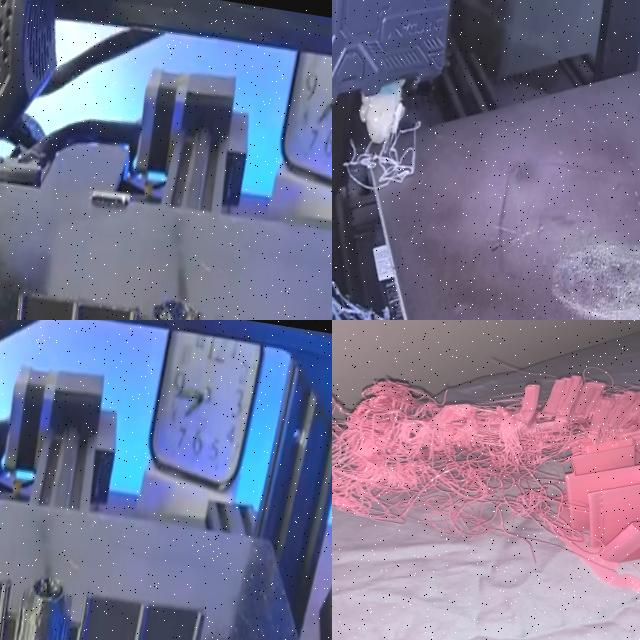spaghetti: (332, 340, 640, 580), (333, 116, 442, 220), (332, 261, 404, 320)
